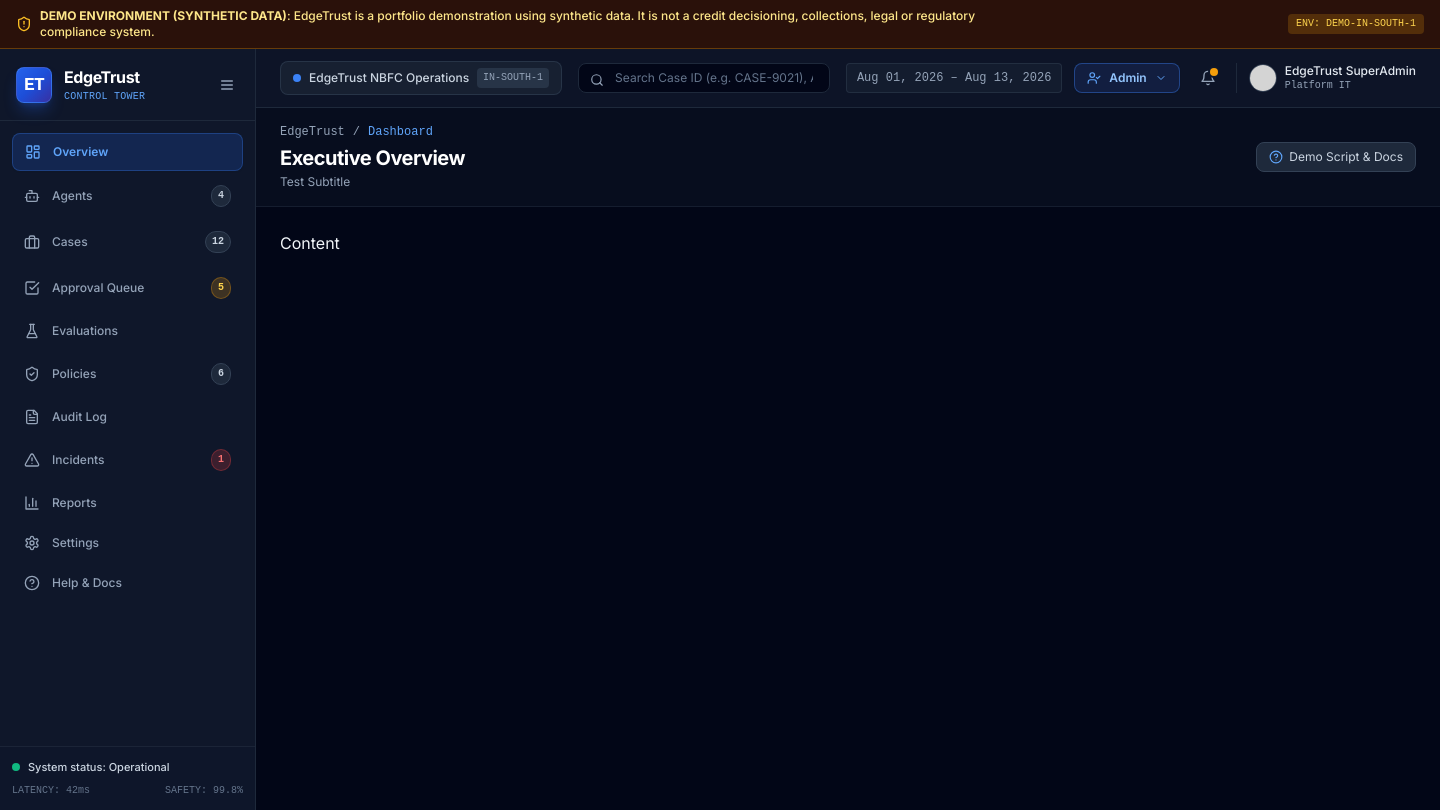
Test: 3. Sidebar Navigation & Global Header Controls › opens and closes the notification center drawer
This screenshot has width=1440, height=810.
Step 1. Click the button titled "Notifications" → (1208, 78), box [1192,62,1224,94]
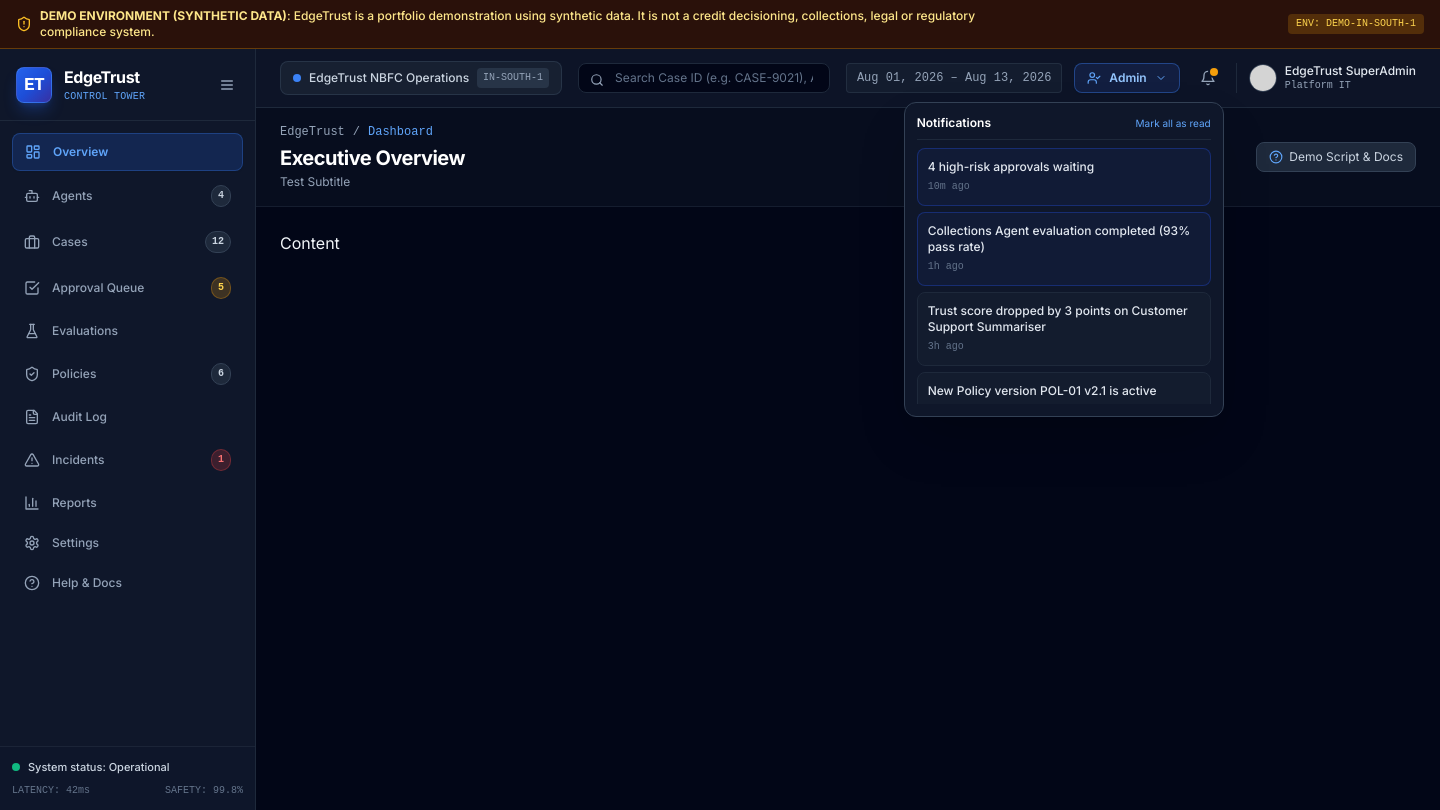
Expected: the text "4 high-risk approvals waiting" is shown, [928,159,1094,174]
Expected: the text "Collections Agent evaluation completed (93% pass rate)" is shown, [928,223,1200,255]
